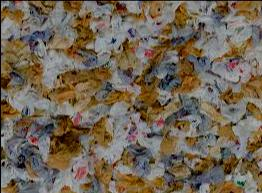Plastic: (74, 99, 107, 124), (211, 59, 238, 79)
